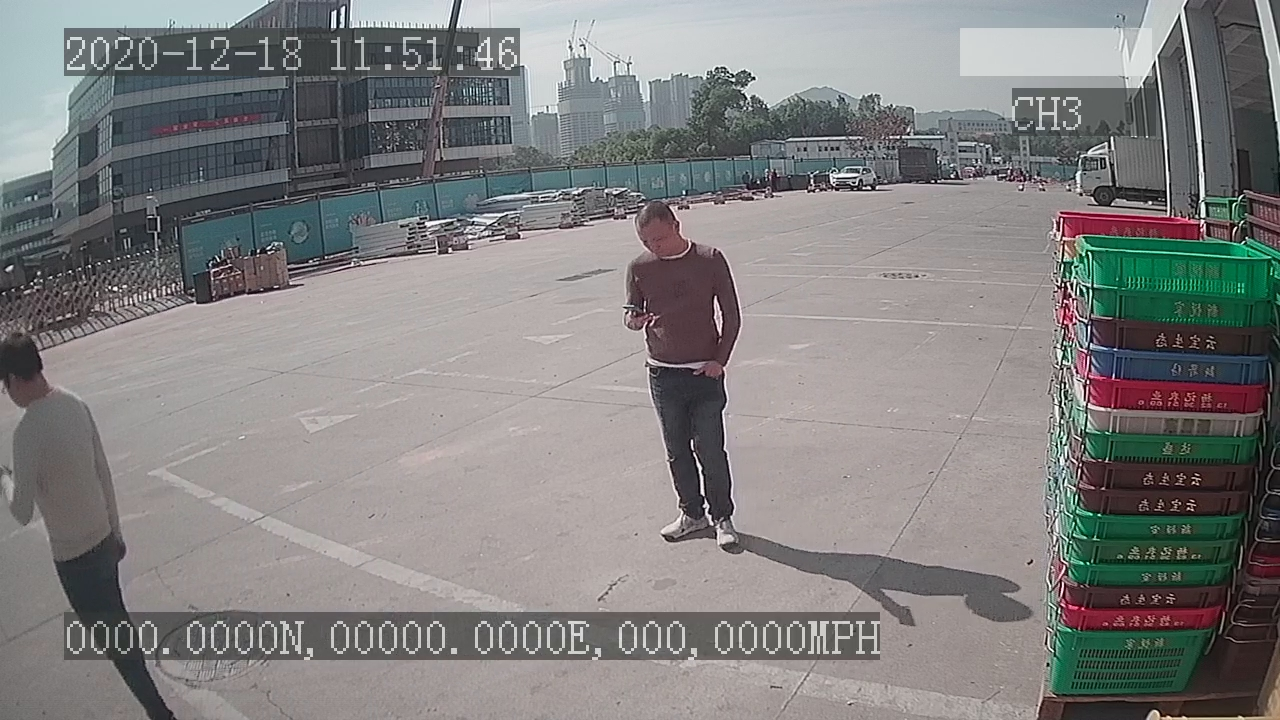person: (613, 190, 752, 560)
